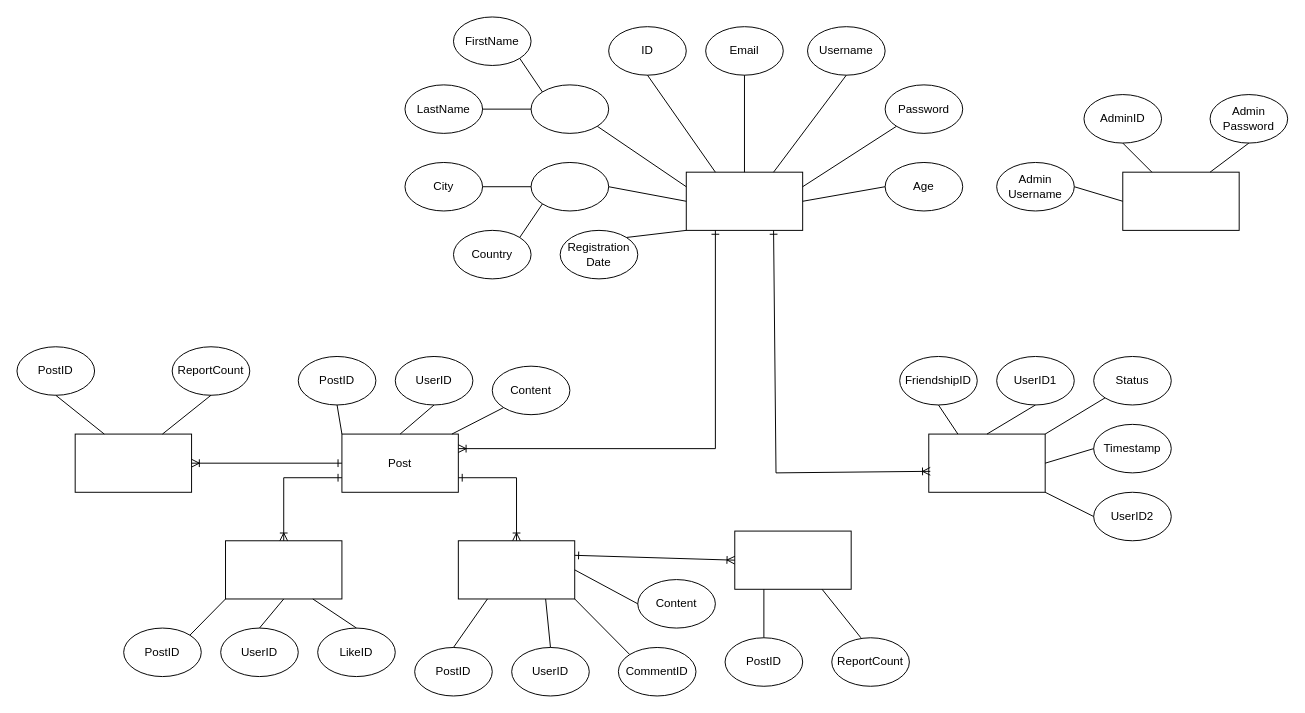
Image size: 1305x713. Some labels were removed from this diagram. Each missing label, with the centre of its shape:
"Address" goes at point (569, 186).
"Admin" goes at point (1180, 200).
"Comment" goes at point (516, 569).
"CommentReport" goes at point (792, 559).
"Friends" goes at point (986, 462).
"Like" goes at point (283, 569).
"Name" goes at point (569, 108).
"PostReport" goes at point (133, 462).
"User" goes at point (744, 200).
